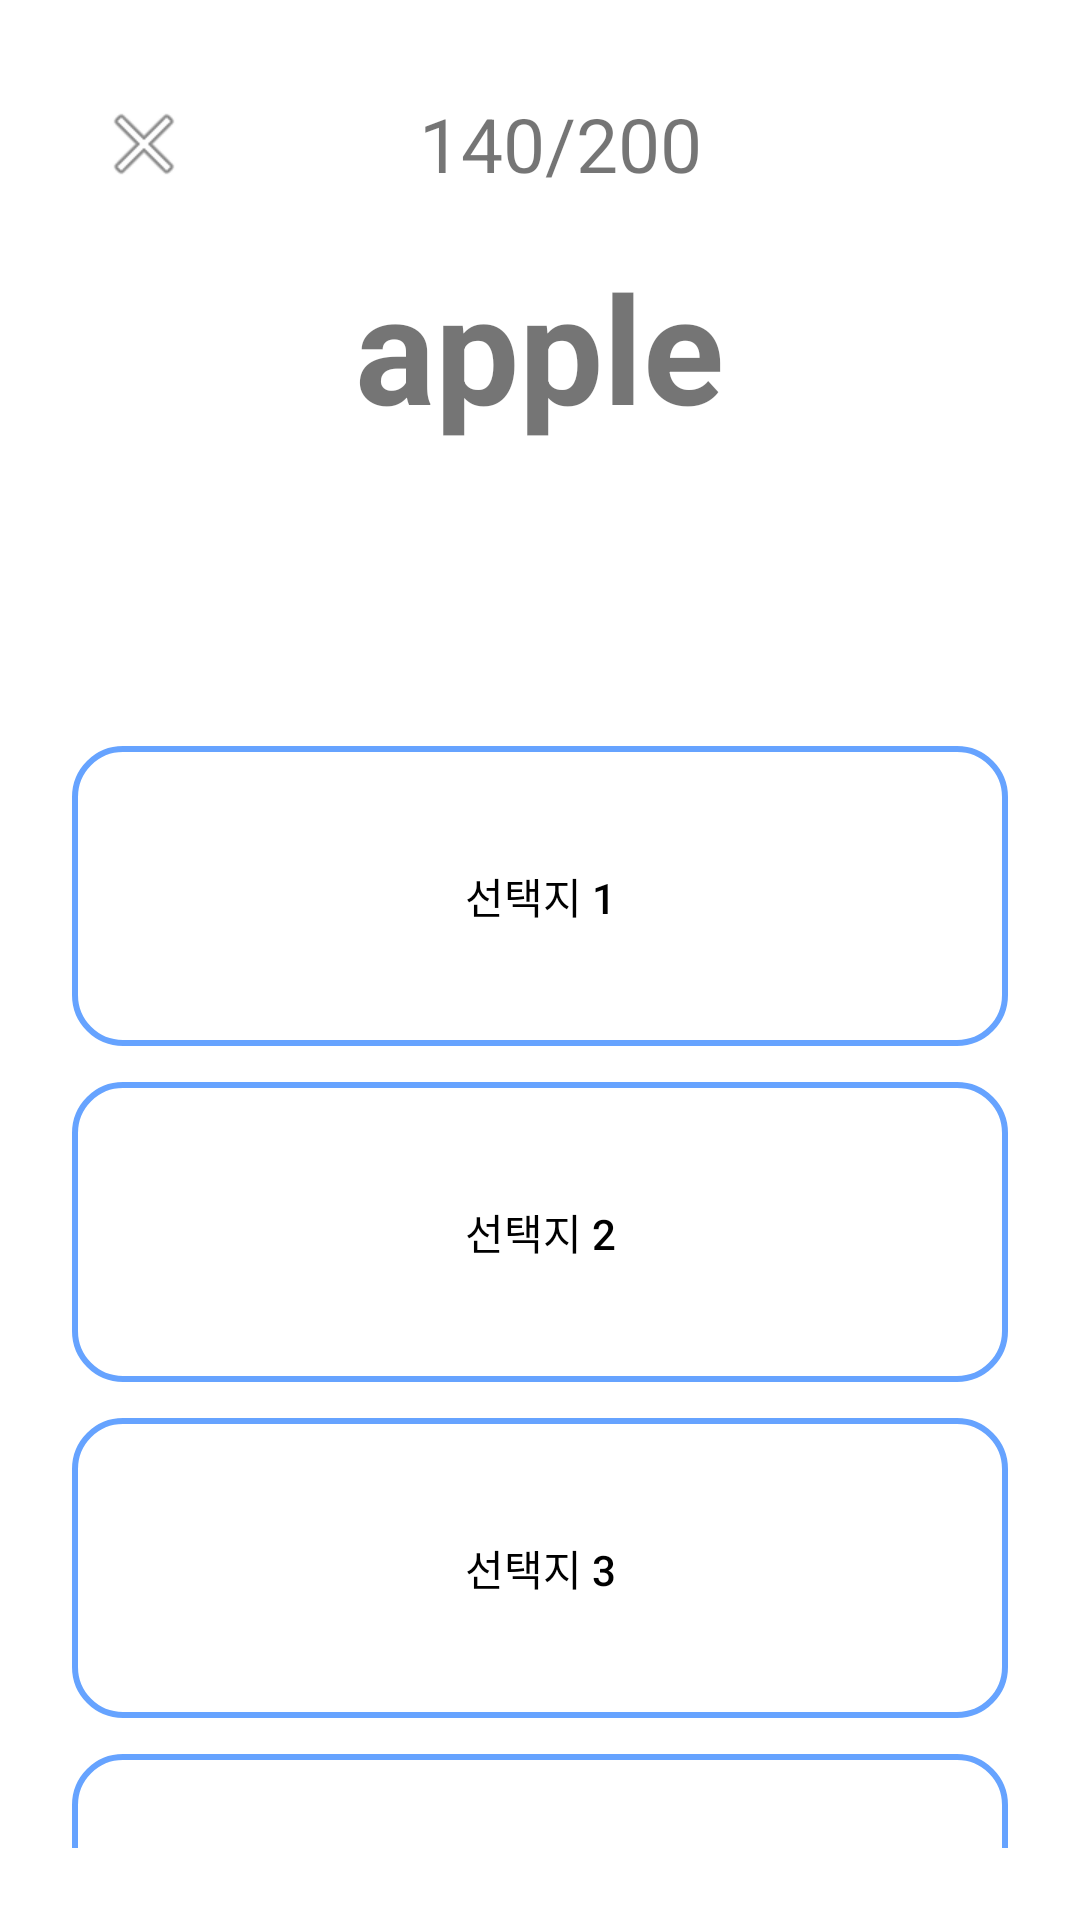

Screen size 1080 × 1920. Icon name, then its center in pixels as point (x, y):
닫기: point (144, 144)
